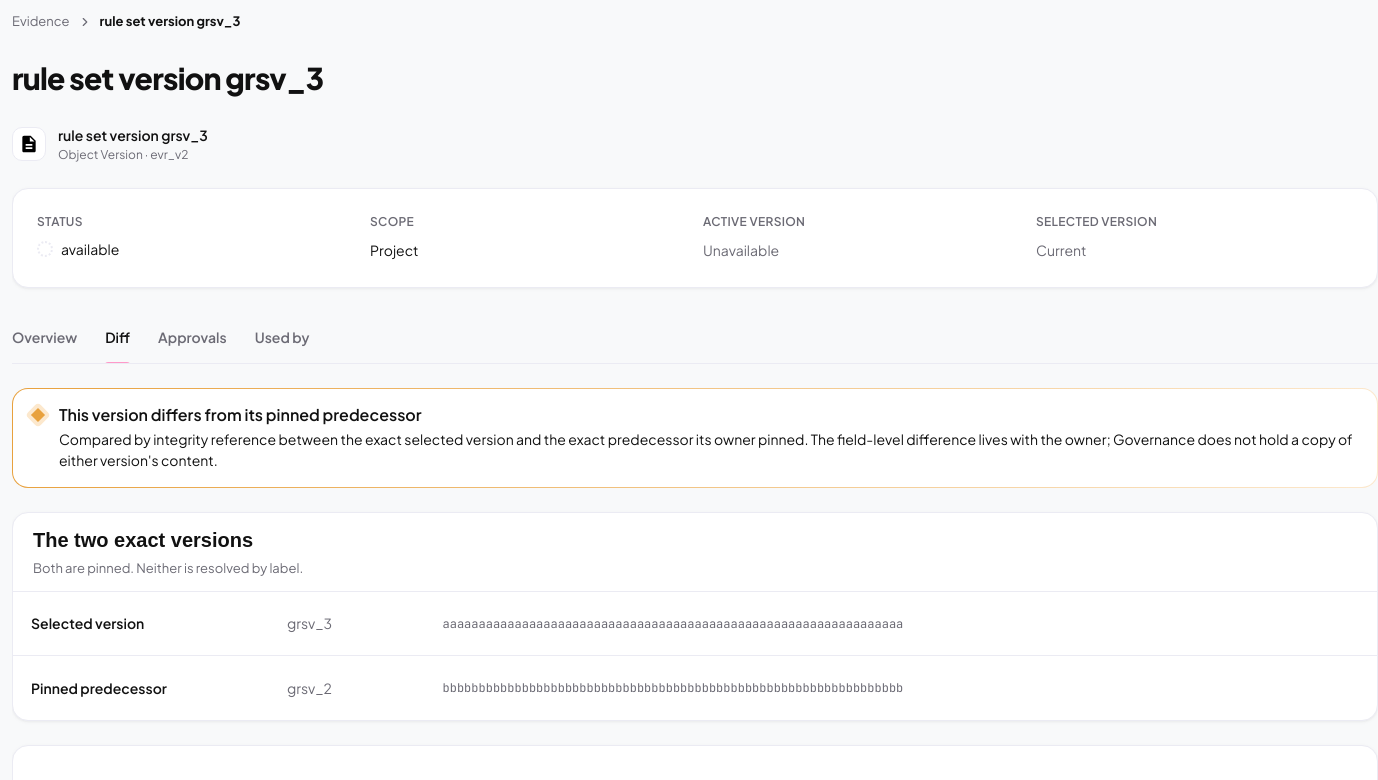
the three Evidence workbenches › compares only the two exact versions when a predecessor IS pinned
Expected: the message with test id "version-diff-verdict" is shown, [12,388,1377,488]
Expected: the text "grsv_2" is shown, [269,656,424,720]
Click the link "Approvals" at (192, 338), box [158,312,227,364]
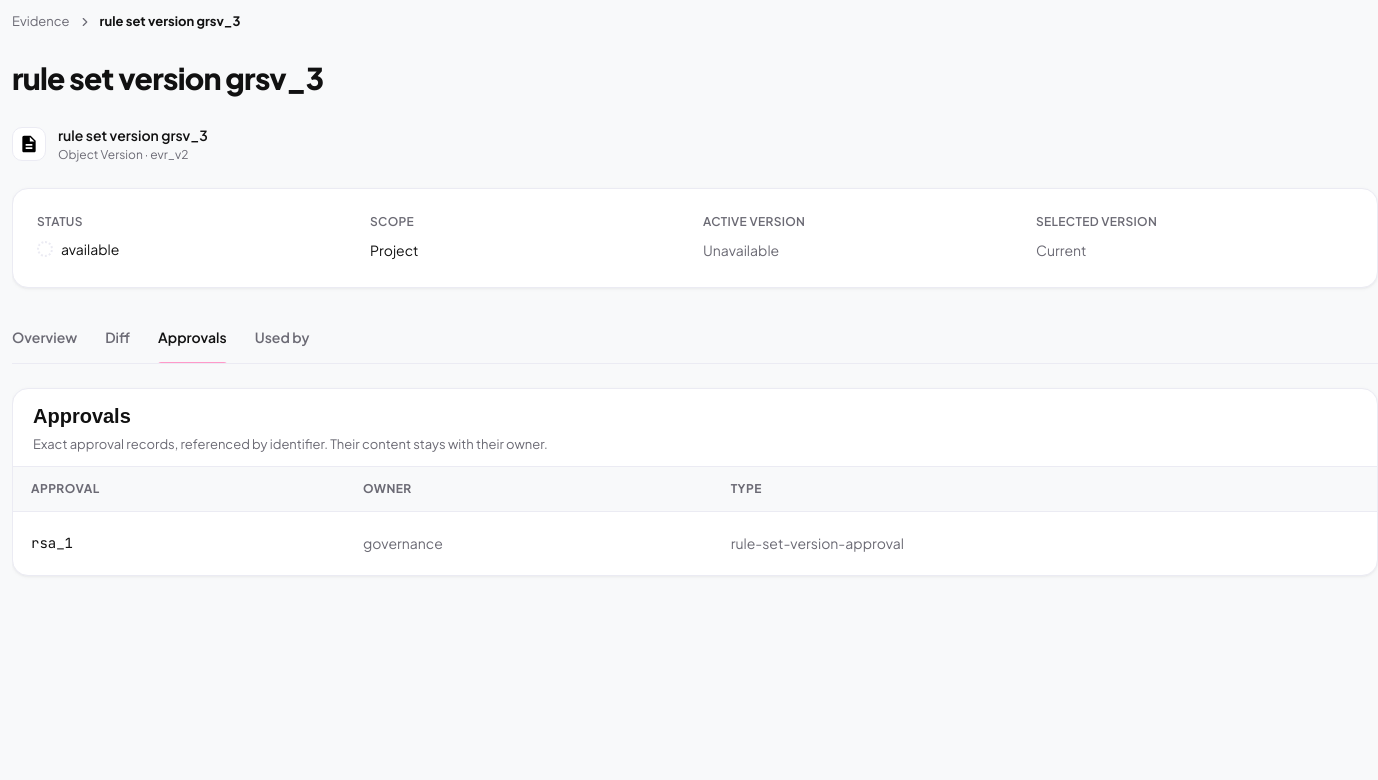
Expected: the text "rsa_1" is shown, [13,511,345,575]
